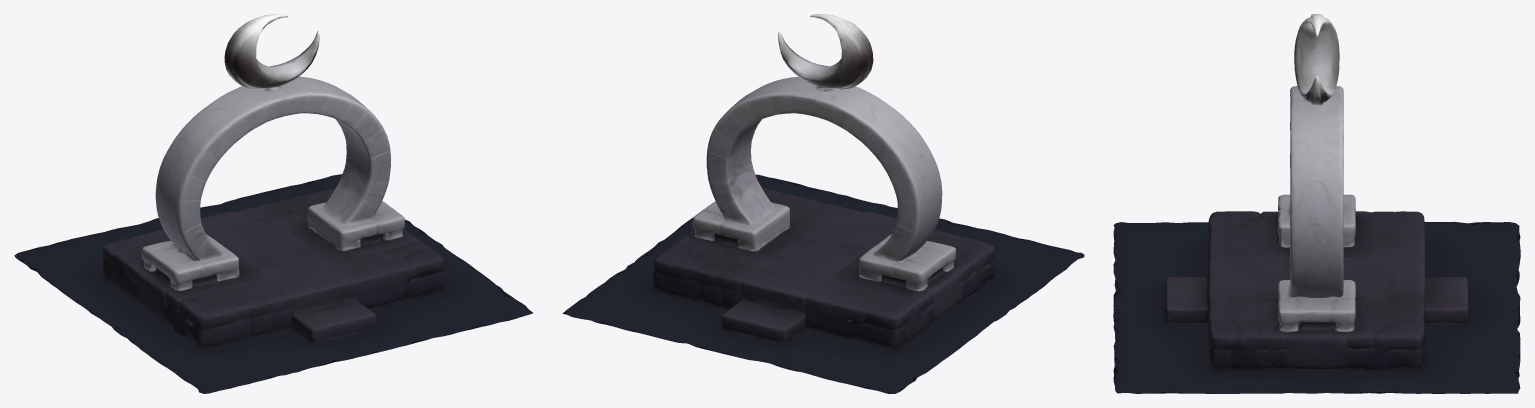
The model's file is moon_gate_t1.glb.
3 views of the same model, side by side, from view 1: azimuth 30°, elevation 25°; view 2: azimuth 150°, elevation 25°; view 3: azimuth 270°, elevation 25° (orthographic). The views are drawn at different scales.
Parts seen in each view (by area): view 1: geometry_0; view 2: geometry_0; view 3: geometry_0.
Boxes of the visible parts, bbox=[...] form: geometry_0: bbox=[14, 14, 532, 393]; geometry_0: bbox=[562, 14, 1084, 393]; geometry_0: bbox=[1113, 14, 1520, 393].
Bounding box in the file's own units: 1 × 0.773 × 1.
1 material, 1 textured.
